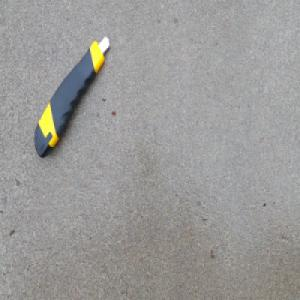Cutter: (33, 35, 111, 161)
